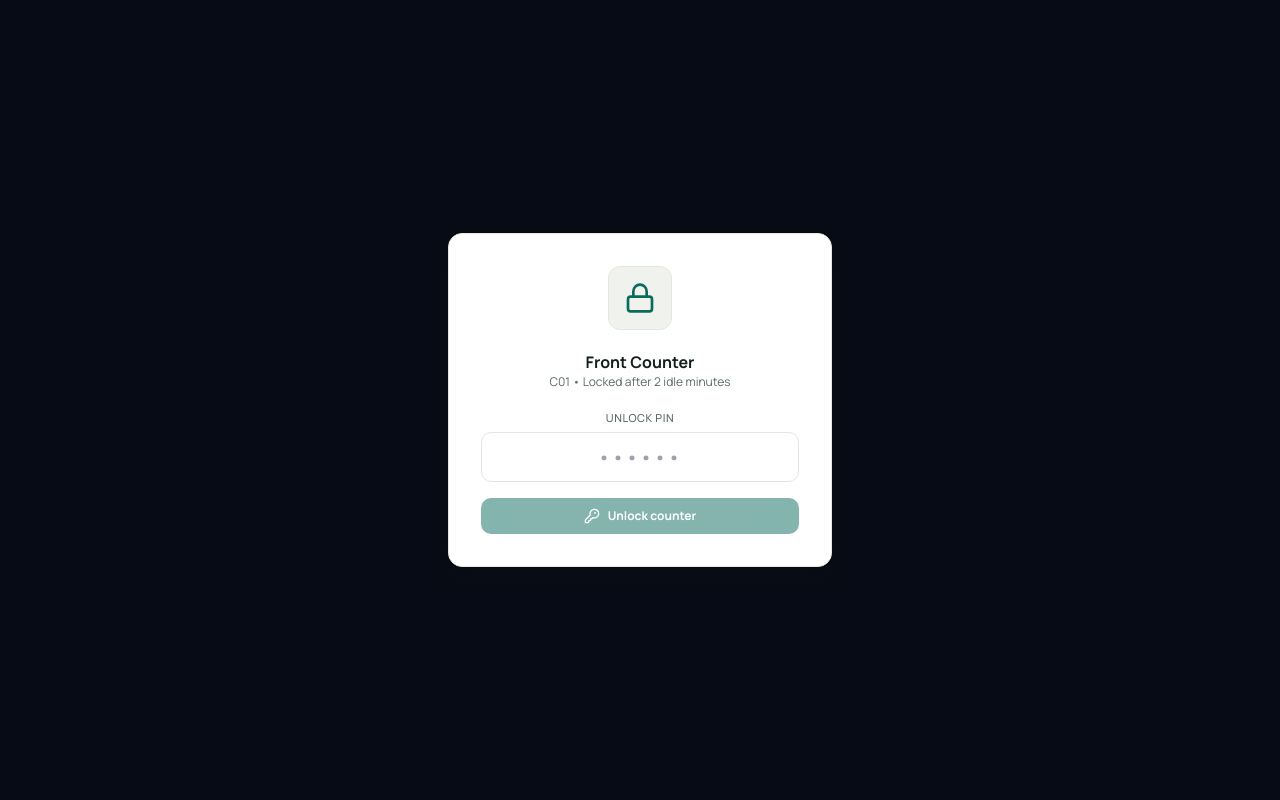
Test case: The counter's idle lock at the till (PRF-005) › stays locked with the server's reason and the attempts it counted
The width and height of the screenshot is (1280, 800).
Type "111111" into the password field labelled "Unlock PIN".
click(640, 457); type("111111")  # box [481,432,799,482]
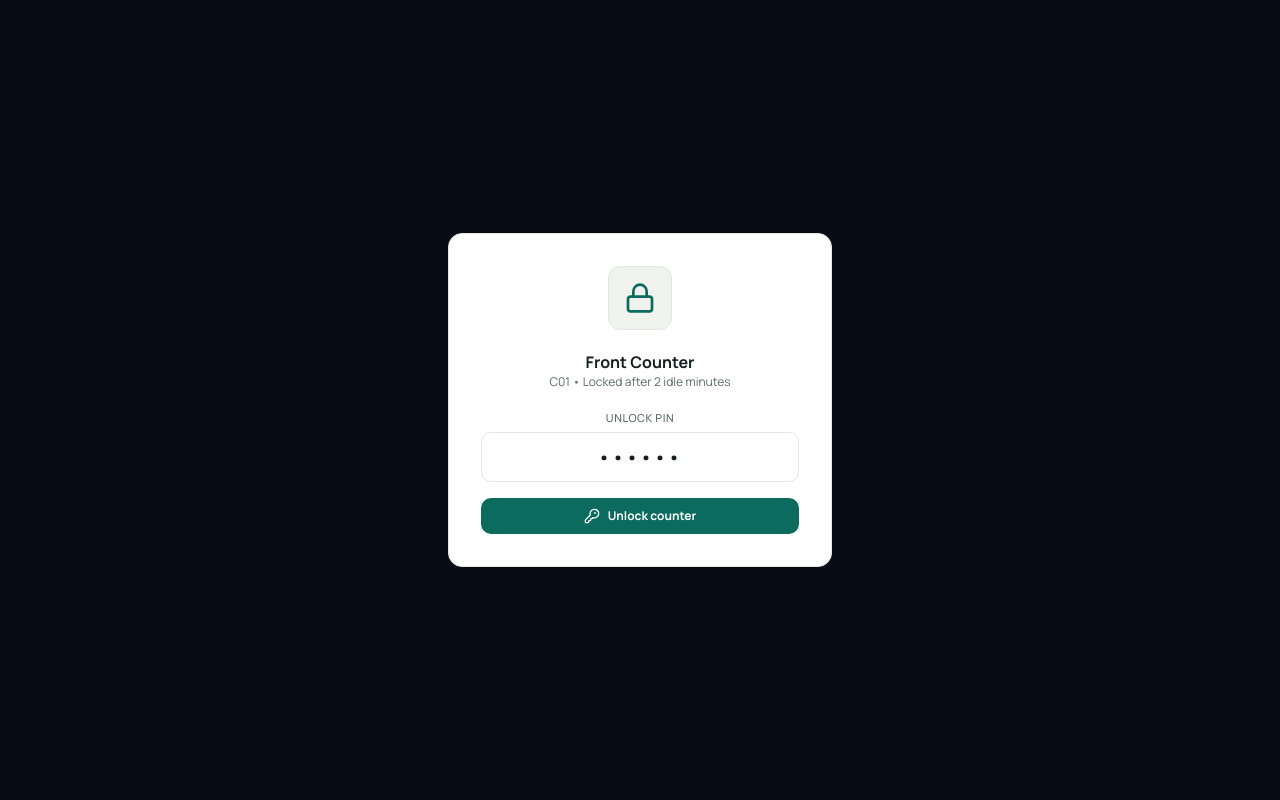
Submit the form labelled "Unlock PIN Unlock counter", box [481,410,799,534]
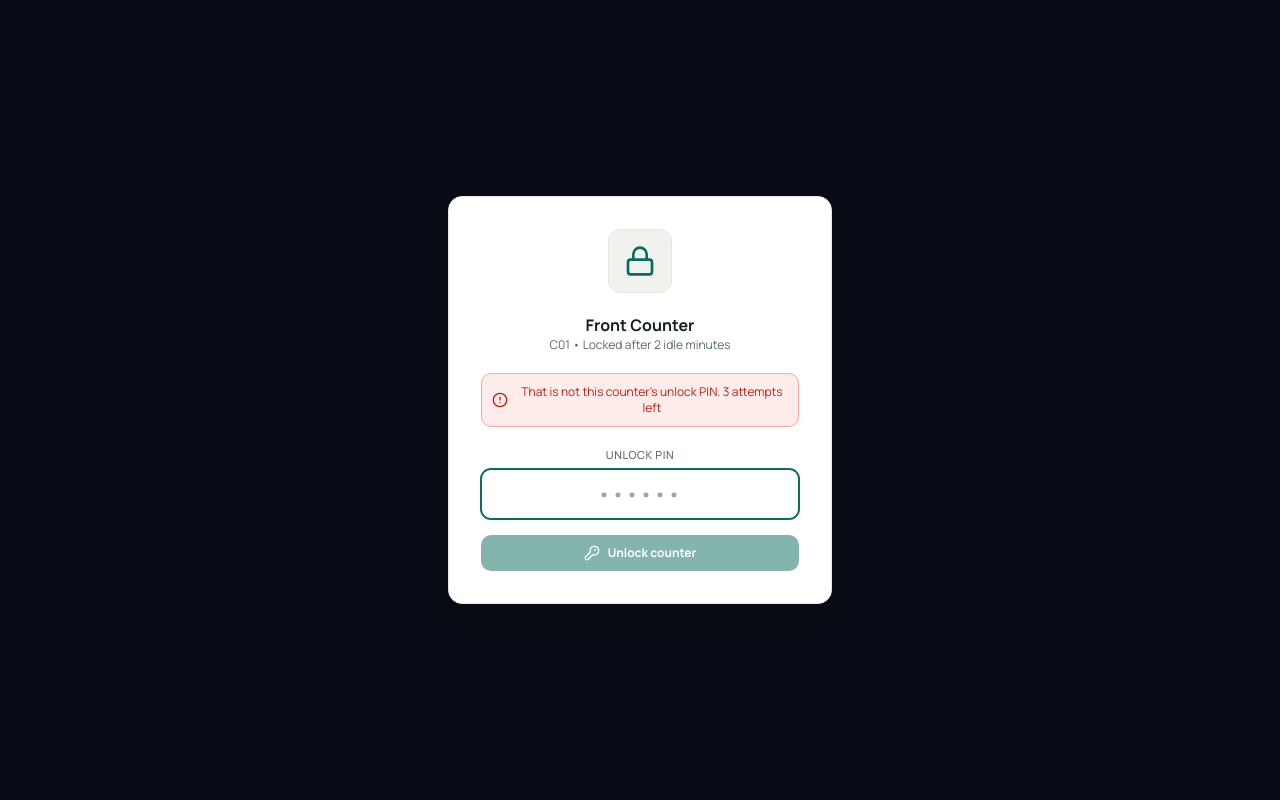
expect the message shows "not this counter": met, box [521,383,783,416]
expect the message shows "3 attempts left": met, box [521,383,783,416]
expect the password field labelled "Unlock PIN" is empty: met, box [481,469,799,519]
